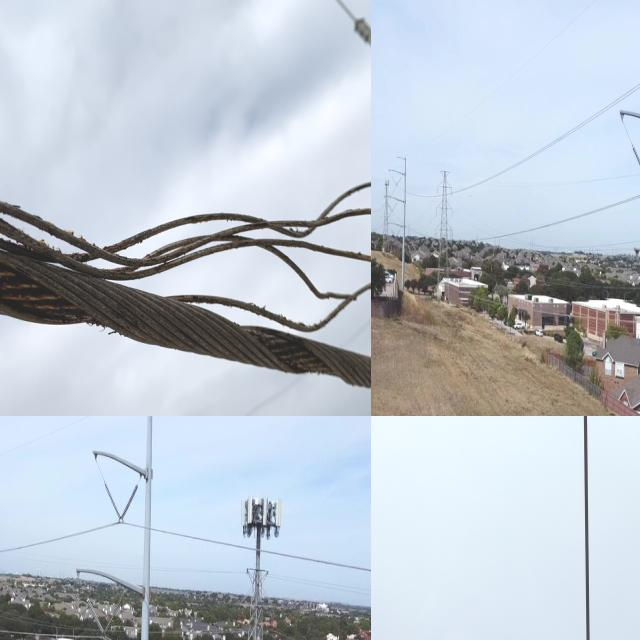杆塔: (221, 547, 279, 640), (430, 164, 460, 280)
正常绝缘子: (115, 482, 140, 528), (100, 595, 125, 639), (84, 595, 108, 637), (103, 481, 125, 525), (627, 133, 640, 179)
电缆破损: (0, 129, 371, 387)
